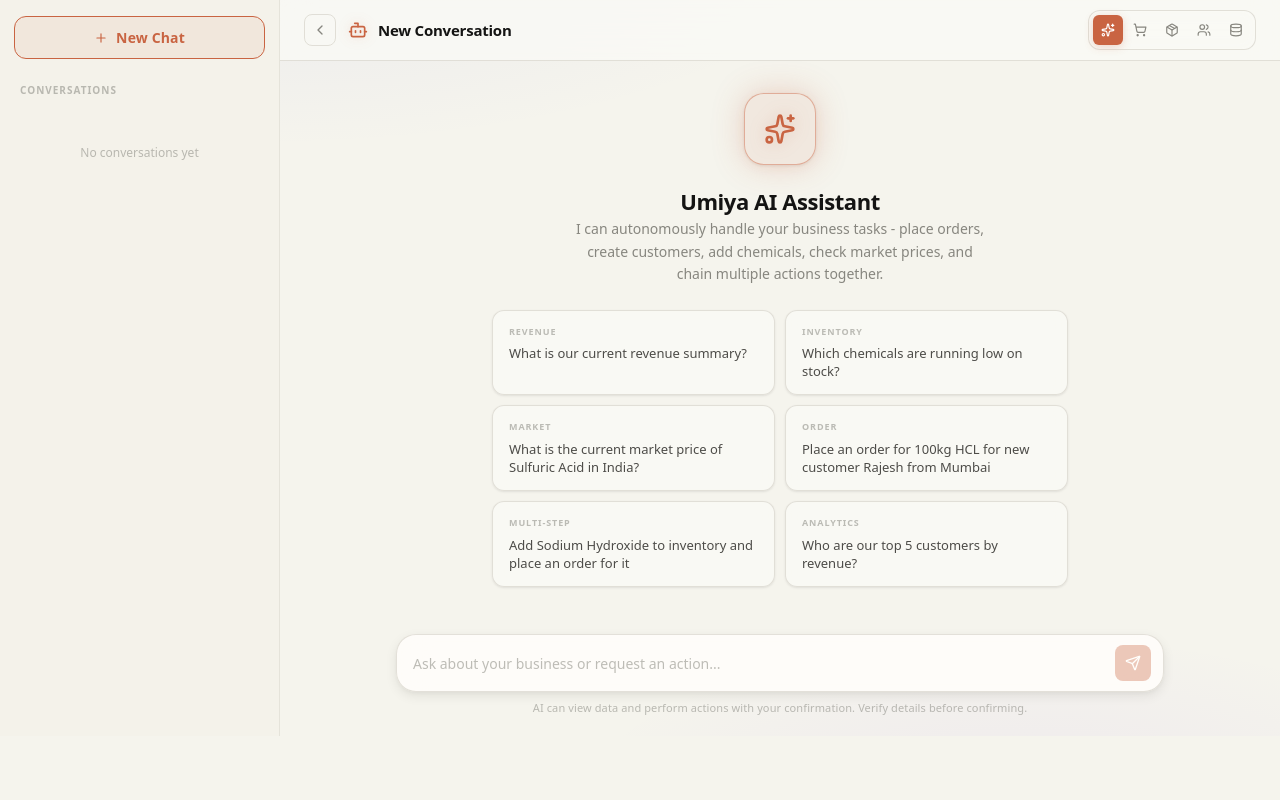
it: AIAssistant › displays action card when chat returns an action
This screenshot has width=1280, height=800.
Expected: the heading "Umiya AI Assistant" is shown, [680,186,880,216]
Step 1. Type "Create order" into the text box with placeholder "Ask about your business or request an action..." → [759, 664], box [413,647,1105,680]
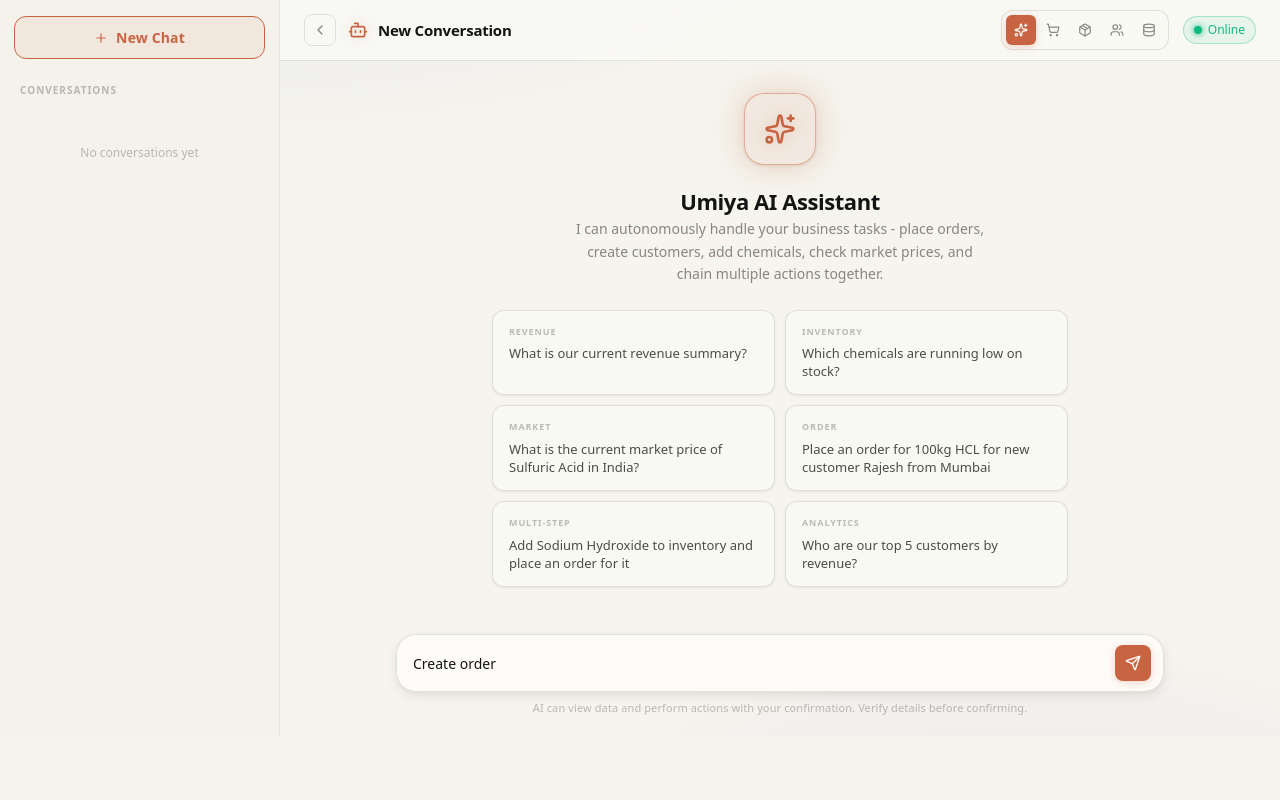
Step 2. Press Enter in the text box with placeholder "Ask about your business or request an action...", box [413,647,1105,680]
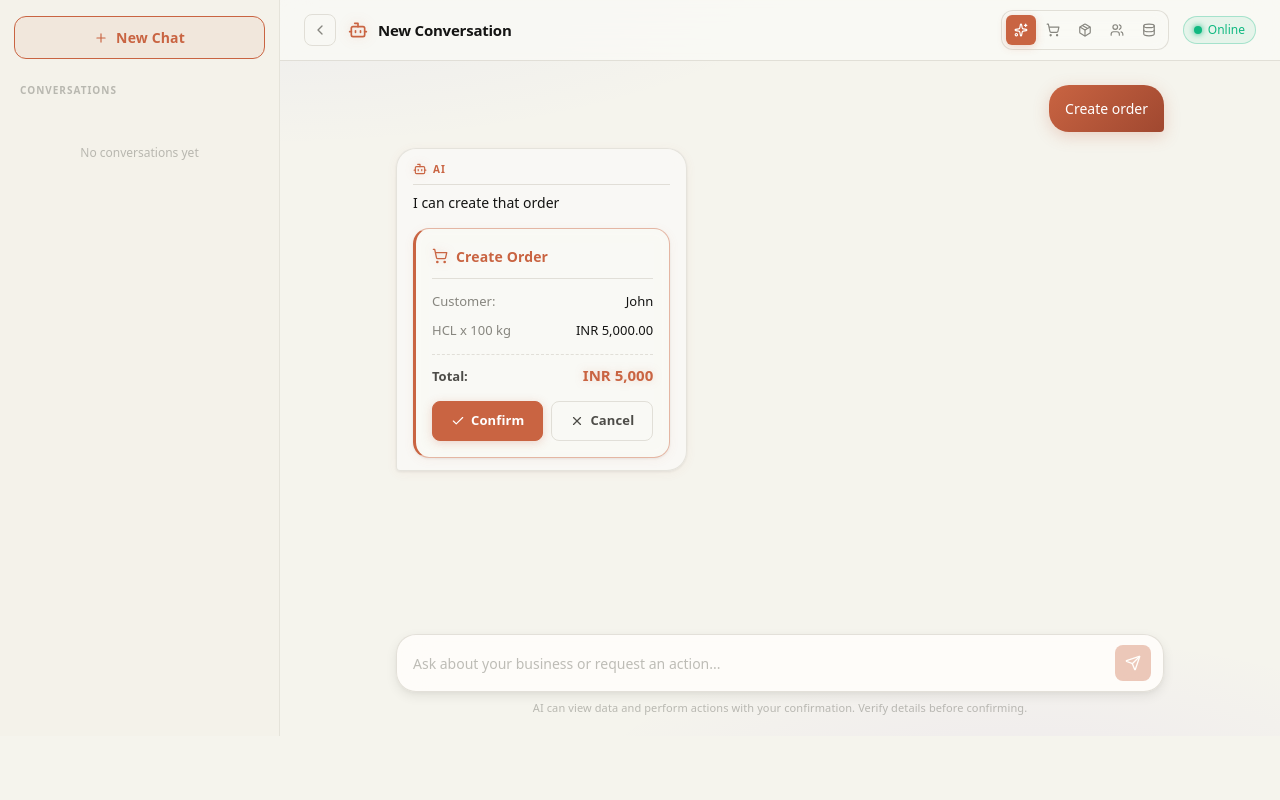
Expected: the text "Create Order" is shown, [456,245,548,268]
Expected: the button "Confirm" is shown, [432,401,544,441]
Expected: the button "Cancel" is shown, [552,401,653,441]
